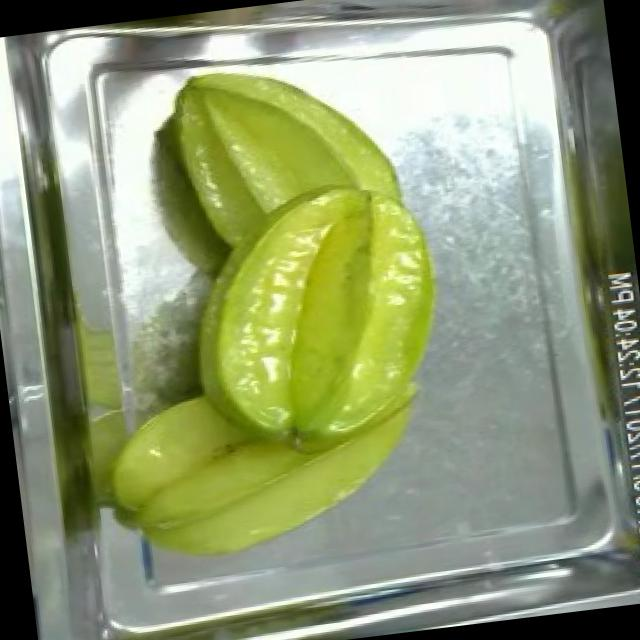fruit: (159, 158, 468, 542), (156, 40, 412, 268)
